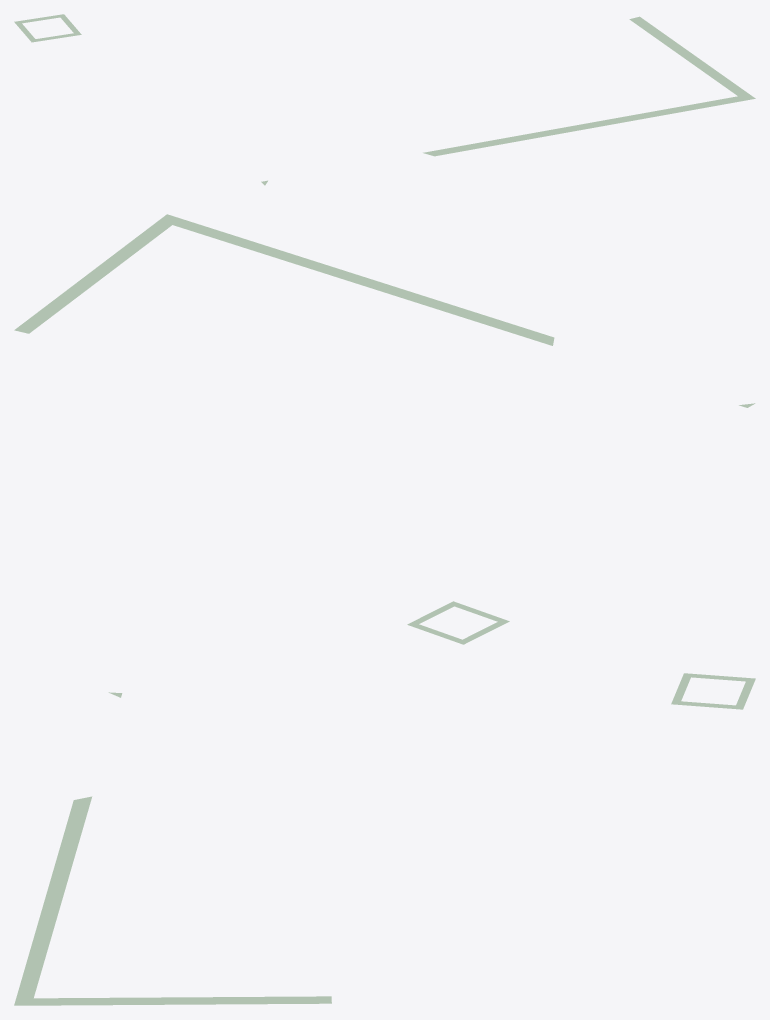
Rendered from floor-486650.glb.
3 renders of one model, top to bottom at view 1: azimuth 30°, elevation 25°; view 2: azimuth 150°, elevation 25°; view 3: azimuth 270°, elevation 25°, orthographic. The views are drawn at different scales.
Visible parts, largest first — view 1: SectionBody_1,f5be9884-1ec4-4bdf-83fe-4a4f57898bca, SectionBody_3,817ea7ed-bc4a-429e-8aee-e4c509cef56e; view 2: SectionBody_1,f5be9884-1ec4-4bdf-83fe-4a4f57898bca, SectionBody_3,817ea7ed-bc4a-429e-8aee-e4c509cef56e; view 3: SectionBody_1,f5be9884-1ec4-4bdf-83fe-4a4f57898bca, SectionBody_3,817ea7ed-bc4a-429e-8aee-e4c509cef56e.
Boxes of the visible parts, x1,y1,x2,y2 form: SectionBody_1,f5be9884-1ec4-4bdf-83fe-4a4f57898bca: (423, 94, 755, 156); SectionBody_3,817ea7ed-bc4a-429e-8aee-e4c509cef56e: (629, 16, 749, 96); SectionBody_1,f5be9884-1ec4-4bdf-83fe-4a4f57898bca: (159, 214, 554, 345); SectionBody_3,817ea7ed-bc4a-429e-8aee-e4c509cef56e: (14, 220, 171, 333); SectionBody_1,f5be9884-1ec4-4bdf-83fe-4a4f57898bca: (14, 796, 92, 1005); SectionBody_3,817ea7ed-bc4a-429e-8aee-e4c509cef56e: (31, 996, 331, 1005).
Size of the model in its own units: 22620 by 0 by 21325.
